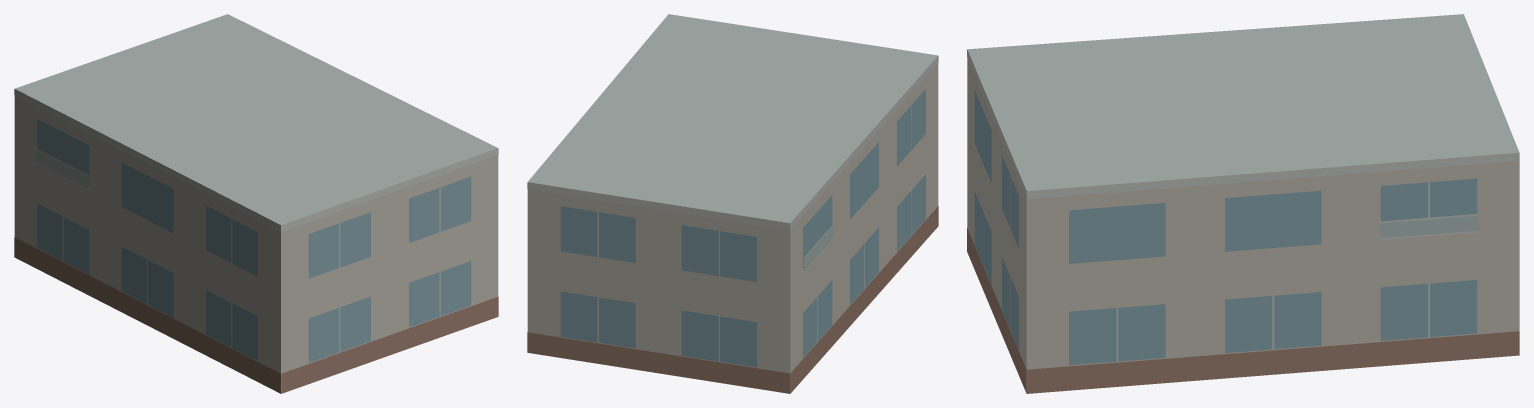
Rendered from survey-upis-32832392.glb.
The picture shows the model from 3 angles, left to right: view 1: azimuth 30°, elevation 25°; view 2: azimuth 150°, elevation 25°; view 3: azimuth 270°, elevation 25°; orthographic projection. The views are drawn at different scales.
Visible parts, largest first — view 1: survey-upis-32832392.tmp; view 2: survey-upis-32832392.tmp; view 3: survey-upis-32832392.tmp.
Part boxes in pixels (x1=…): survey-upis-32832392.tmp: x1=14, y1=14, x2=498, y2=393; survey-upis-32832392.tmp: x1=527, y1=14, x2=938, y2=393; survey-upis-32832392.tmp: x1=967, y1=14, x2=1519, y2=393.
Bounding box in the file's own units: 11.44 × 6.1 × 15.07.
